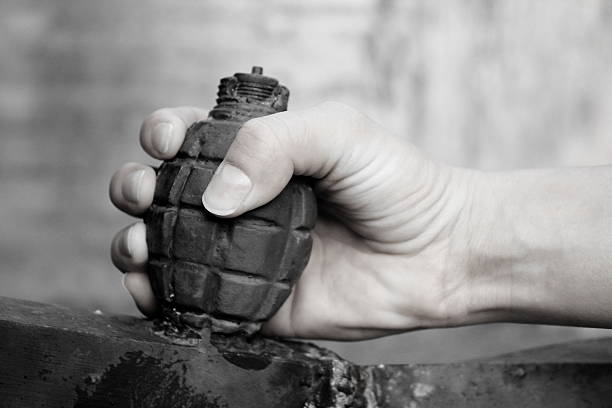e1: (151, 69, 323, 342)
